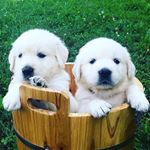puppy: (70, 35, 150, 117), (1, 27, 70, 114)
